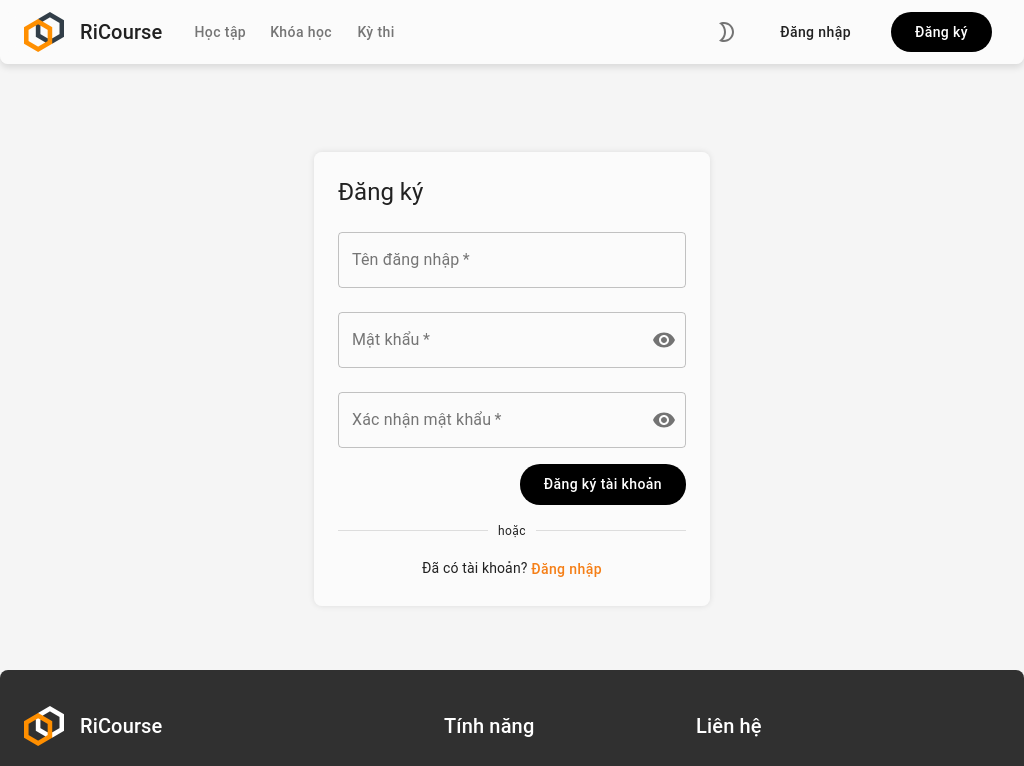
Test: Sign up functionality › should display error message with empty credentials
Click the button "Đăng ký tài khoản" at (603, 485), box top-left (520, 464), bottom-right (686, 505)
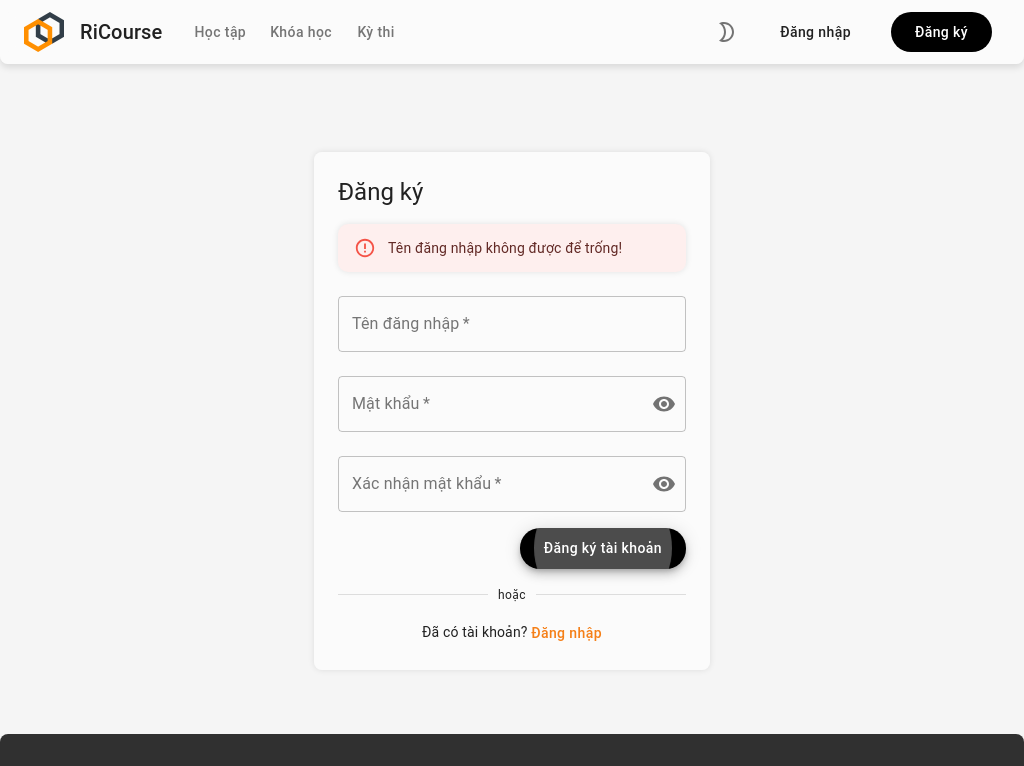
Now the text "Tên đăng nhập không được để trống!" is shown, box top-left (388, 240), bottom-right (622, 256)
